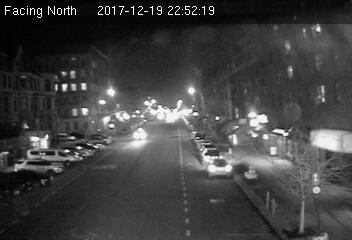car: (203, 157, 235, 178)
